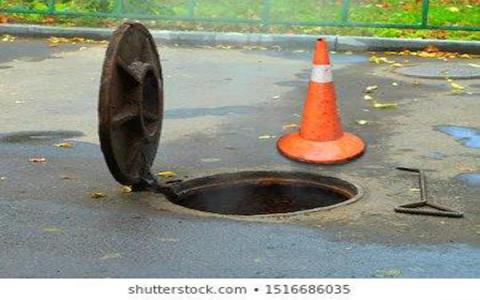open manhole: (151, 157, 368, 220)
